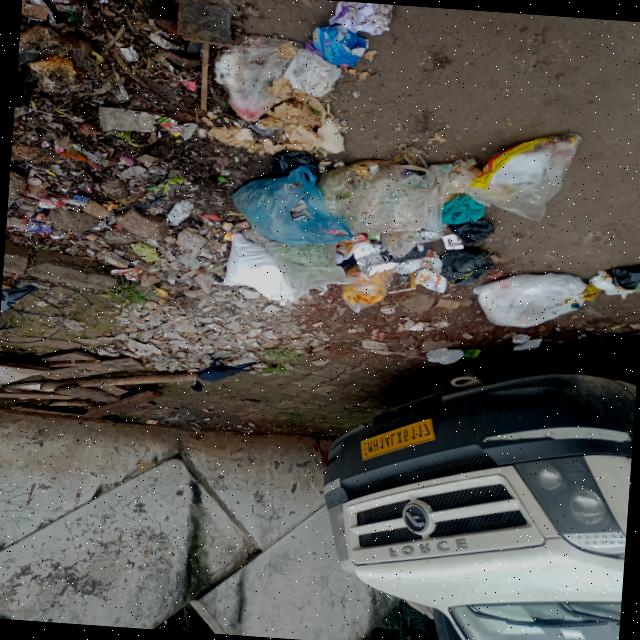garbage: (205, 2, 640, 335)
